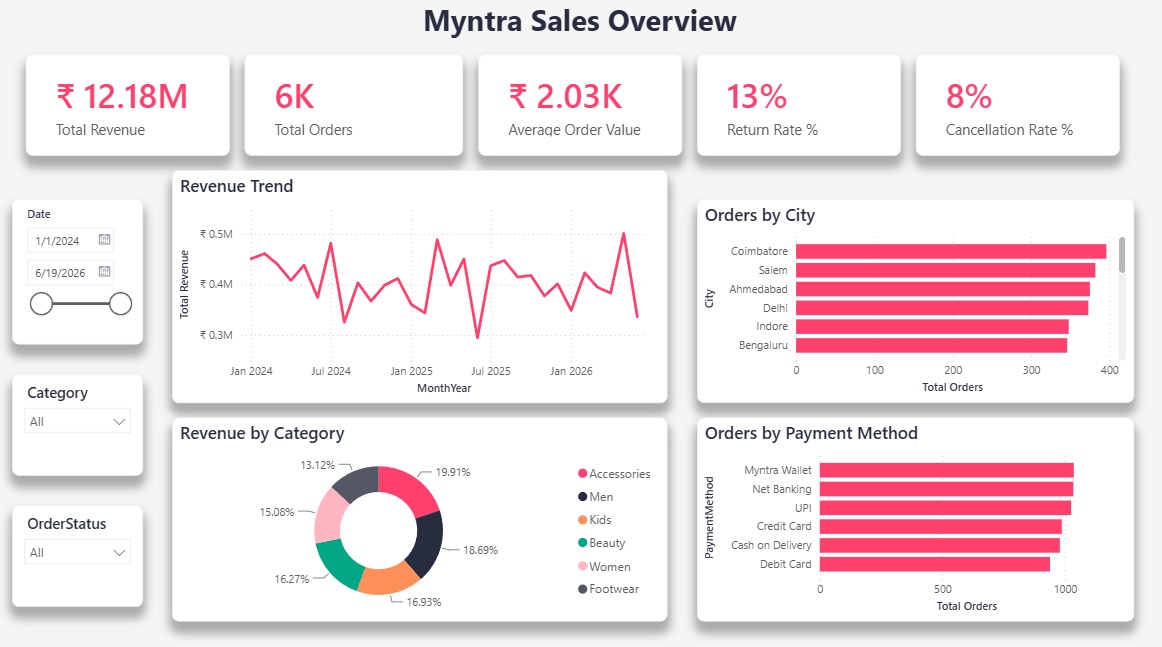

The dashboard page shown, as its layout file describes it:
{"tool":"powerbi","page":{"name":"Overview","canvas":[1280,720],"ordinal":0},"visuals":[{"type":"cardVisual","fields":{"Data":["M-Table.Total Revenue"]},"box":[32,64,224,112],"z":0},{"type":"cardVisual","fields":{"Data":["M-Table.Cancellation Rate %"]},"box":[1008,64,224,112],"z":1000},{"type":"cardVisual","fields":{"Data":["M-Table.Return Rate %"]},"box":[768,64,224,112],"z":2000},{"type":"cardVisual","fields":{"Data":["M-Table.Average Order Value"]},"box":[528,64,224,112],"z":3000},{"type":"cardVisual","fields":{"Data":["M-Table.Total Orders"]},"box":[272,64,240,112],"z":4000},{"type":"lineChart","title":"Revenue Trend","fields":{"Y":["M-Table.Total Revenue"],"Category":["Date.MonthYear"]},"box":[192,192,544,256],"z":5000},{"type":"donutChart","title":"Revenue by Category","fields":{"Category":["Products.Category"],"Y":["M-Table.Total Revenue"]},"box":[192,464,544,224],"z":6000},{"type":"clusteredBarChart","title":"Orders by City","fields":{"Category":["Customers.City"],"Y":["M-Table.Total Orders"]},"box":[768,224,480,224],"z":7000},{"type":"clusteredBarChart","title":"Orders by Payment Method","fields":{"Category":["Orders.PaymentMethod"],"Y":["M-Table.Total Orders"]},"box":[768,464,480,224],"z":8000},{"type":"slicer","fields":{"Values":["Date.Date"]},"box":[16,224,144,160],"z":9000},{"type":"slicer","fields":{"Values":["Products.Category"]},"box":[16,416,144,112],"z":10000},{"type":"slicer","fields":{"Values":["Orders.OrderStatus"]},"box":[16,560,144,112],"z":11000},{"type":"textbox","box":[0,0,1280,64],"z":12000}]}

Visuals, with their boxes in screenshot pixels (x1, y1, x2, y2), scaled from the page's 1280x720 canvas onto the 1162x647 screenshot:
cardVisual - M-Table.Total Revenue: (29,58,232,158)
cardVisual - M-Table.Cancellation Rate %: (915,58,1118,158)
cardVisual - M-Table.Return Rate %: (697,58,901,158)
cardVisual - M-Table.Average Order Value: (479,58,683,158)
cardVisual - M-Table.Total Orders: (247,58,465,158)
"Revenue Trend" lineChart: (174,173,668,403)
"Revenue by Category" donutChart: (174,417,668,618)
"Orders by City" clusteredBarChart: (697,201,1133,403)
"Orders by Payment Method" clusteredBarChart: (697,417,1133,618)
slicer - Date.Date: (15,201,145,345)
slicer - Products.Category: (15,374,145,474)
slicer - Orders.OrderStatus: (15,503,145,604)
textbox: (0,0,1161,58)
